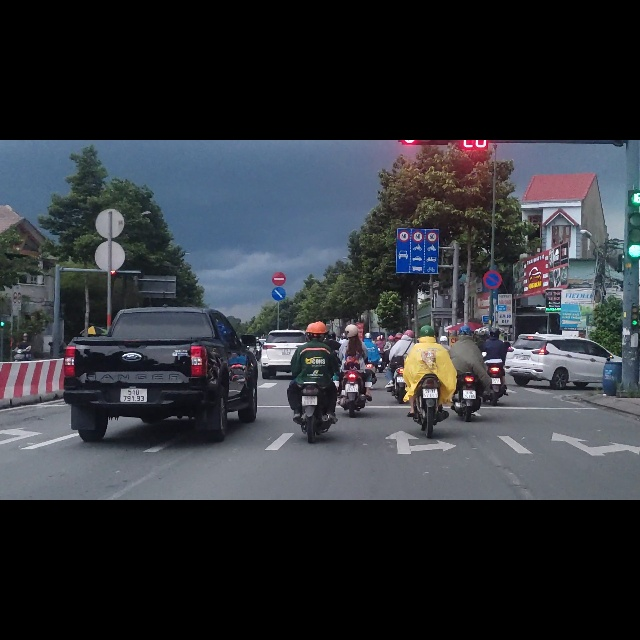bien_hieu_lenh: (396, 184, 438, 238), (483, 231, 502, 264), (272, 261, 286, 286), (272, 235, 286, 259), (412, 161, 424, 181), (427, 162, 437, 182), (399, 161, 409, 180)
